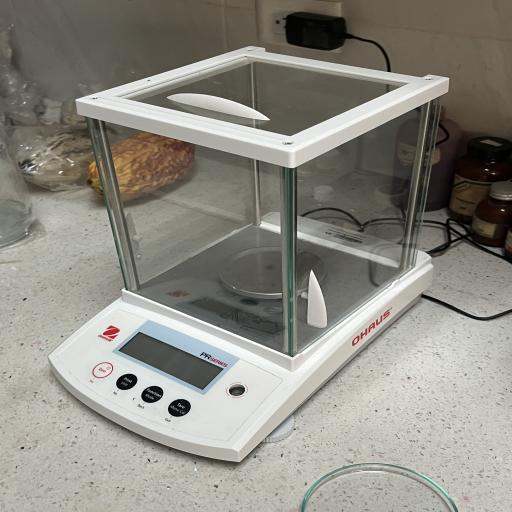Balanza_Analitica_Ohaus: (37, 42, 450, 473)
